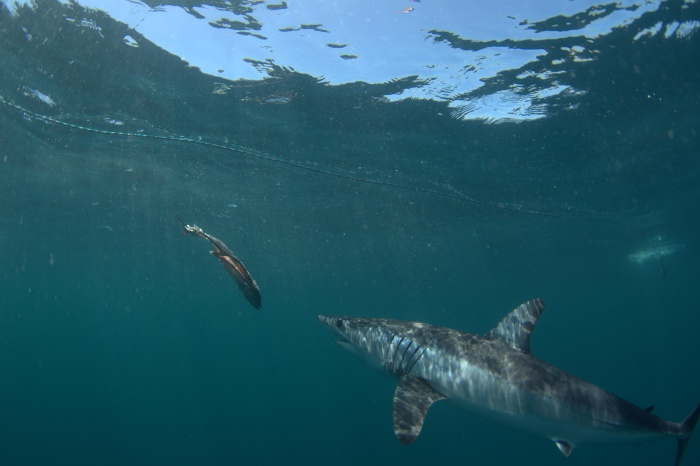Mako: (302, 287, 698, 466)
